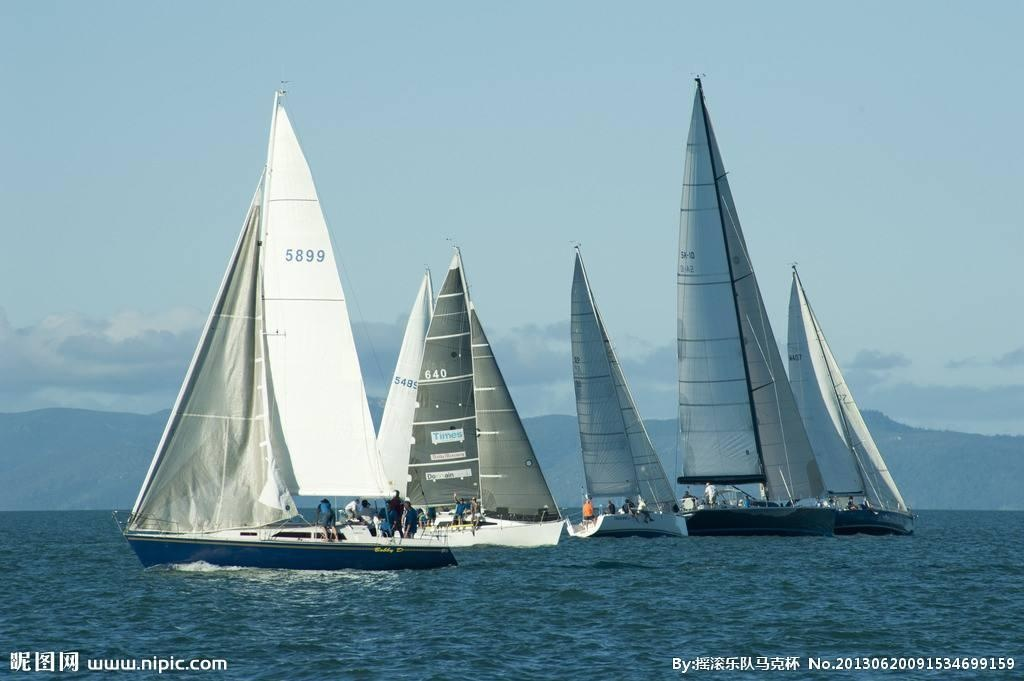fanchuan: (116, 85, 458, 576), (675, 72, 930, 533), (367, 246, 567, 549), (567, 237, 683, 541)
